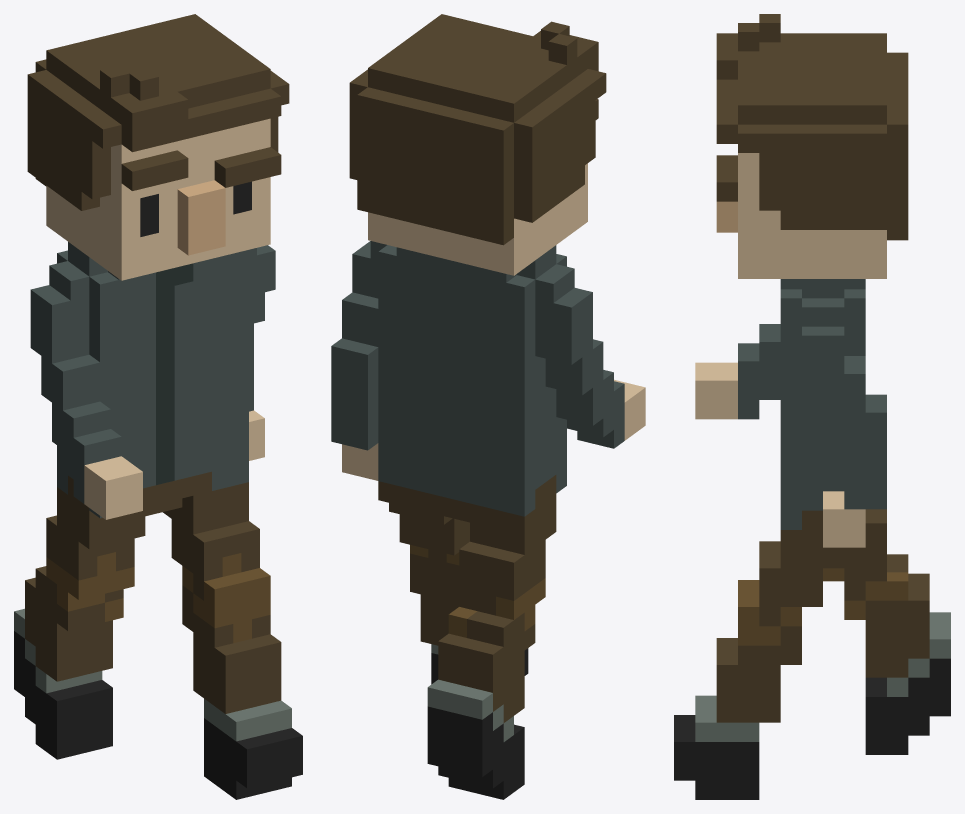
Rendered from WalkAnim1-8.obj.
3 views of the same model, side by side, from view 1: azimuth 30°, elevation 25°; view 2: azimuth 150°, elevation 25°; view 3: azimuth 270°, elevation 25° (orthographic).
Visible parts, largest first — view 1: WalkAnim1-8; view 2: WalkAnim1-8; view 3: WalkAnim1-8.
Part boxes in pixels (x1,y1,x2,y2): WalkAnim1-8: (14,14,302,799); WalkAnim1-8: (331,14,645,799); WalkAnim1-8: (674,14,950,799).
Size of the model in its own units: 12 by 37 by 13.
1 material, 1 textured.
